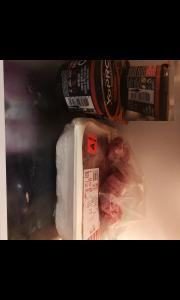Yogur: (52, 62, 122, 120), (121, 60, 173, 121)
